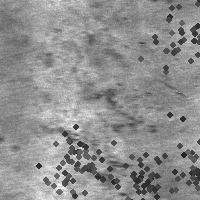rolled-in_scale: (47, 89, 158, 197), (23, 114, 125, 200), (39, 27, 158, 94), (97, 127, 197, 200), (139, 0, 200, 76), (154, 117, 200, 200)
